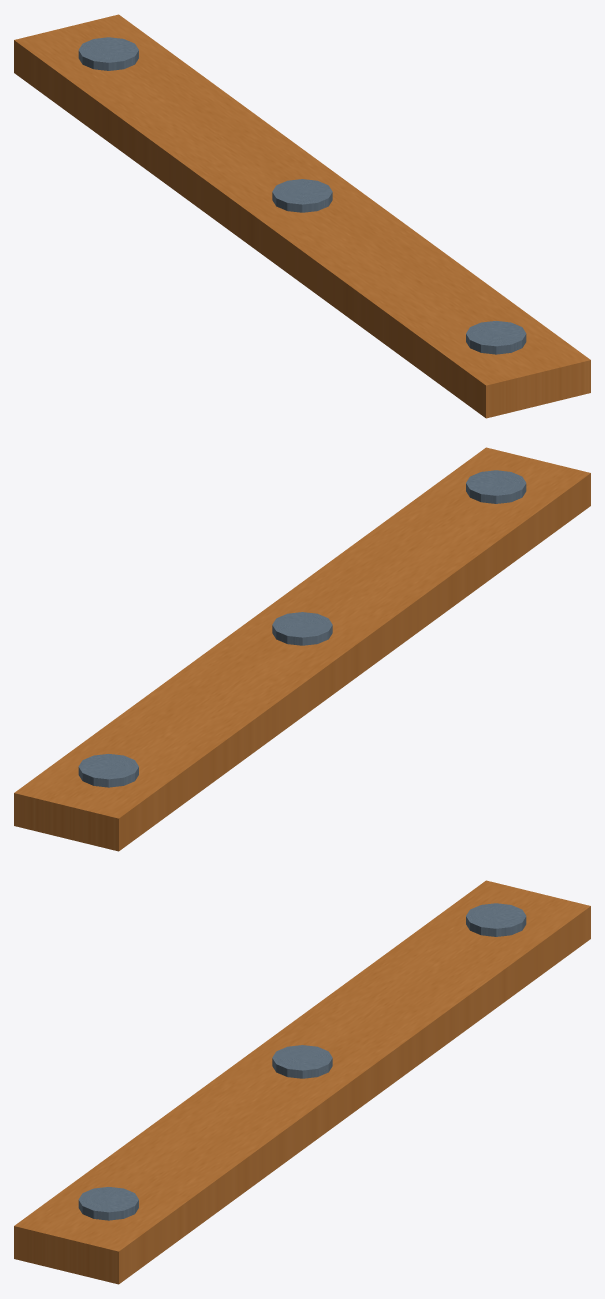
File: 412_L126_BB1_DistributionArtwork.obj
3 views of the same model, one above another, from view 1: azimuth 30°, elevation 25°; view 2: azimuth 150°, elevation 25°; view 3: azimuth 330°, elevation 25° (orthographic).
Visible parts, largest first — view 1: 412_L126_BB1_DistributionArtwork__PSMAT__busbar, 412_L126_BB1_DistributionArtwork__PSMAT__steel; view 2: 412_L126_BB1_DistributionArtwork__PSMAT__busbar, 412_L126_BB1_DistributionArtwork__PSMAT__steel; view 3: 412_L126_BB1_DistributionArtwork__PSMAT__busbar, 412_L126_BB1_DistributionArtwork__PSMAT__steel.
Boxes of the visible parts, x1=… form: 412_L126_BB1_DistributionArtwork__PSMAT__busbar: x1=14, y1=14, x2=590, y2=418; 412_L126_BB1_DistributionArtwork__PSMAT__steel: x1=78, y1=37, x2=526, y2=354; 412_L126_BB1_DistributionArtwork__PSMAT__busbar: x1=14, y1=447, x2=590, y2=851; 412_L126_BB1_DistributionArtwork__PSMAT__steel: x1=78, y1=470, x2=526, y2=787; 412_L126_BB1_DistributionArtwork__PSMAT__busbar: x1=14, y1=880, x2=590, y2=1284; 412_L126_BB1_DistributionArtwork__PSMAT__steel: x1=78, y1=903, x2=526, y2=1220.
Bounding box in the file's own units: 0.01 × 0.00375 × 0.078.
Materials: 2 (2 with a texture image).
